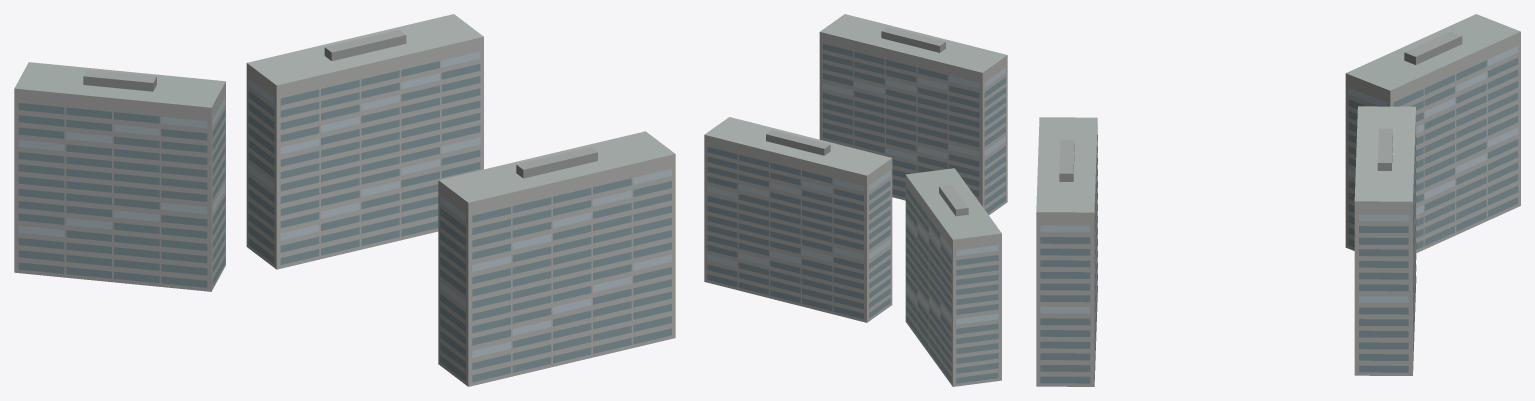
The model's file is apt-a15886402.glb.
The picture shows the model from 3 angles, left to right: view 1: azimuth 30°, elevation 25°; view 2: azimuth 150°, elevation 25°; view 3: azimuth 270°, elevation 25°; orthographic projection. The views are drawn at different scales.
Parts seen in each view (by area): view 1: apt-a15886402; view 2: apt-a15886402; view 3: apt-a15886402.
Boxes of the visible parts, x1,y1,x2,y2 form: apt-a15886402: [14, 14, 675, 386]; apt-a15886402: [704, 14, 1007, 386]; apt-a15886402: [1036, 14, 1520, 386].
Bounding box in the file's own units: 93.33 × 40 × 96.24.
